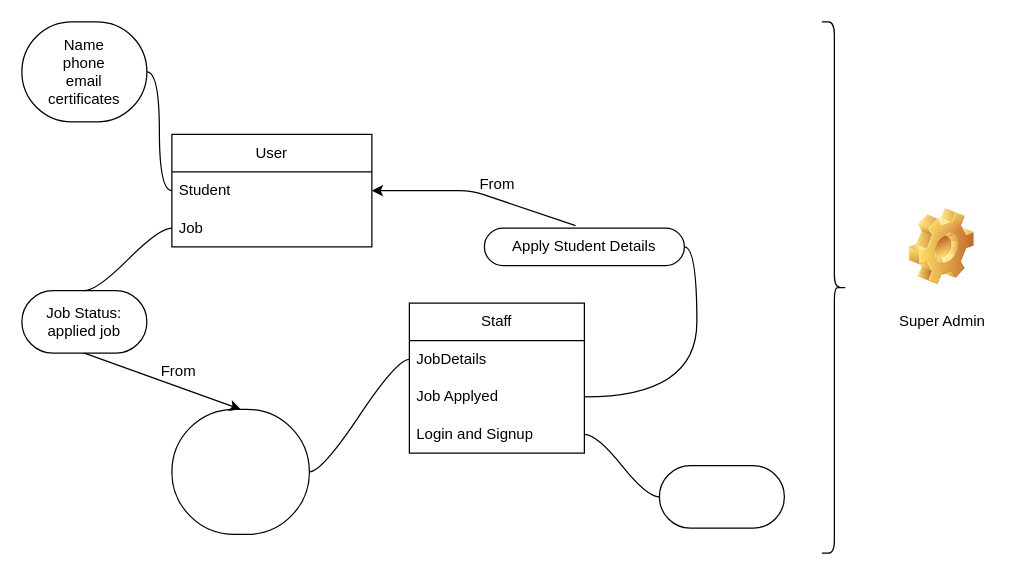
Image size: 1020x575. Some labels were removed from this diagram. The box of each missing label's shape, as (x1, y1, x2, y2) in pixels:
Job Title Company vaccancy type package qualification: (171, 408, 309, 534)
username password: (658, 464, 784, 528)
